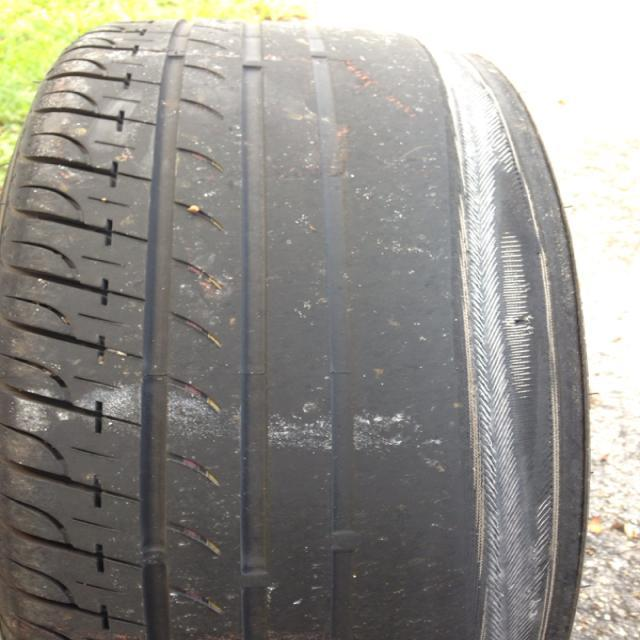Flat spots: (242, 85, 506, 640)
